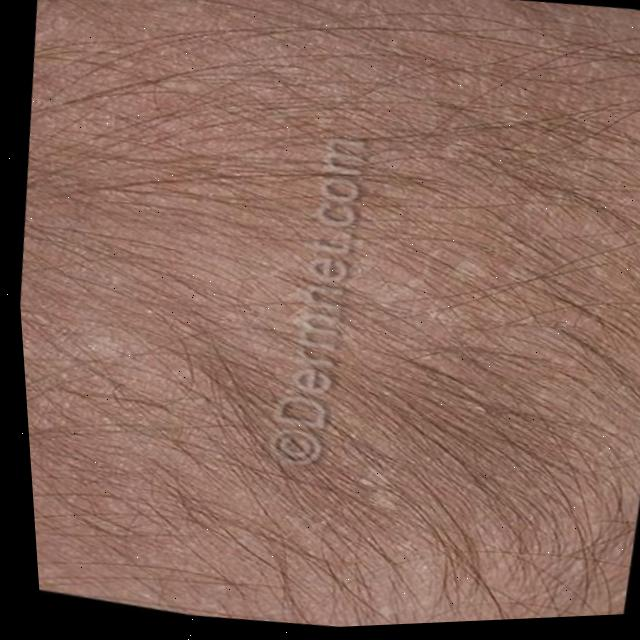Eczema: (69, 13, 549, 613)
